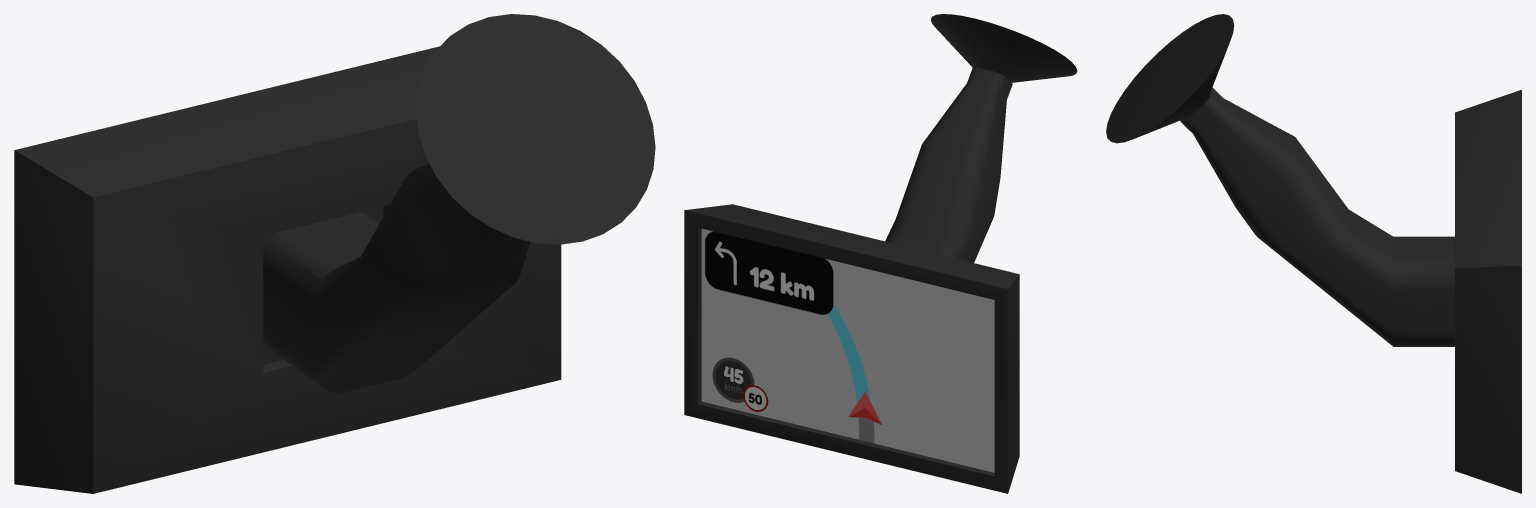
The model's file is gps.fbx.
3 views of the same model, side by side, from view 1: azimuth 30°, elevation 25°; view 2: azimuth 150°, elevation 25°; view 3: azimuth 270°, elevation 25° (orthographic). The views are drawn at different scales.
Parts seen in each view (by area): view 1: Cube; view 2: Cube; view 3: Cube.
Boxes of the visible parts, left/top/right/bottom form: Cube: left=14, top=14, right=655, bottom=493; Cube: left=684, top=14, right=1077, bottom=493; Cube: left=1106, top=14, right=1521, bottom=493.
Size of the model in its own units: 194 by 196 by 194.
